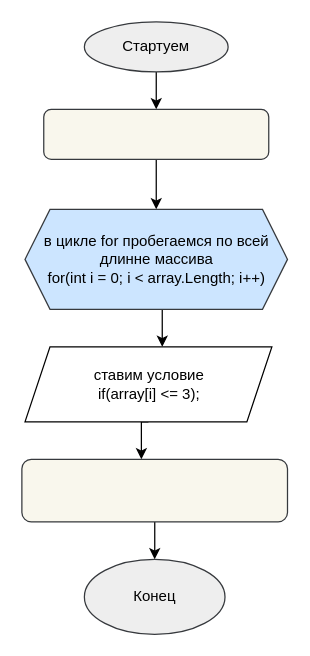
Some shapes in this 310 by 656 pixel diagram are drawn without their labels. The centre of each missing label's shape, as x and y in pixels:
выводим в консоль Console.Write(array[i]);: (154,490)
создаем массив строк string[] array = {" "," "," "};: (155,133)
